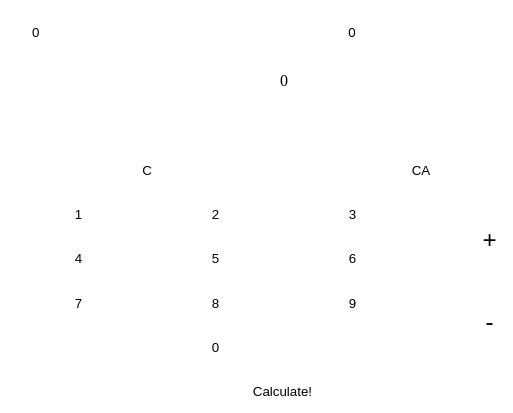
Scenario: Calculator App › should update active display when number buttons are pushed
This screenshot has width=513, height=413.
What coordinates should you click on to do the following:
click the field named "Operand 1"
I would click on:
 (126, 32)
Its box is [24, 17, 228, 48].
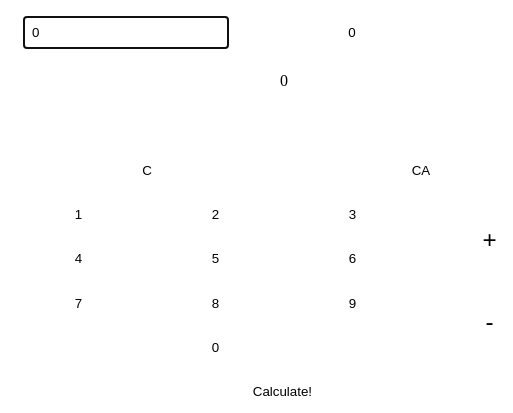
What coordinates should you click on to do the following:
click the button "1"
I would click on:
 (79, 214)
Its box is [17, 199, 140, 230].
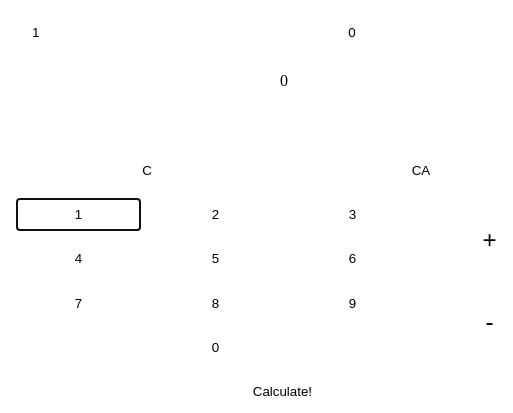
What coordinates should you click on to do the following:
click the button "7"
I would click on:
 (79, 303)
Its box is [17, 288, 140, 319].
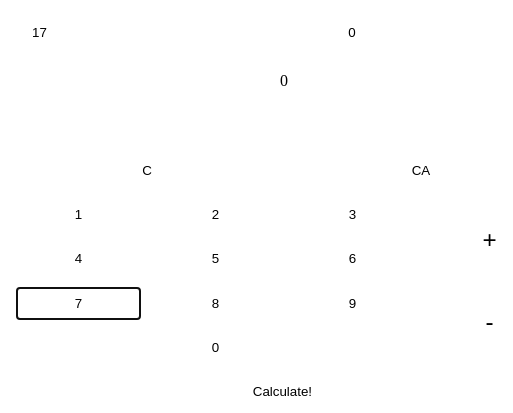
What coordinates should you click on to do the following:
click the button "3"
I would click on:
 (353, 214)
Its box is [291, 199, 414, 230].
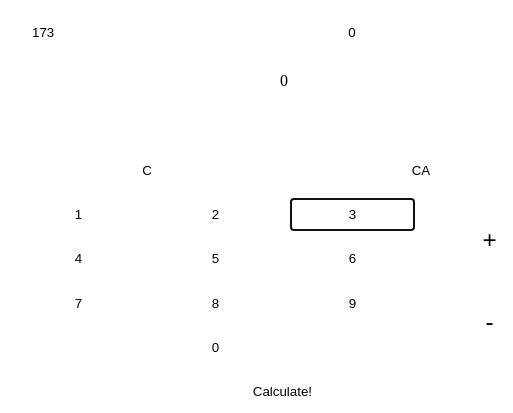
Expected: the field named "Operand 1" holds "173", [24, 17, 228, 48]
